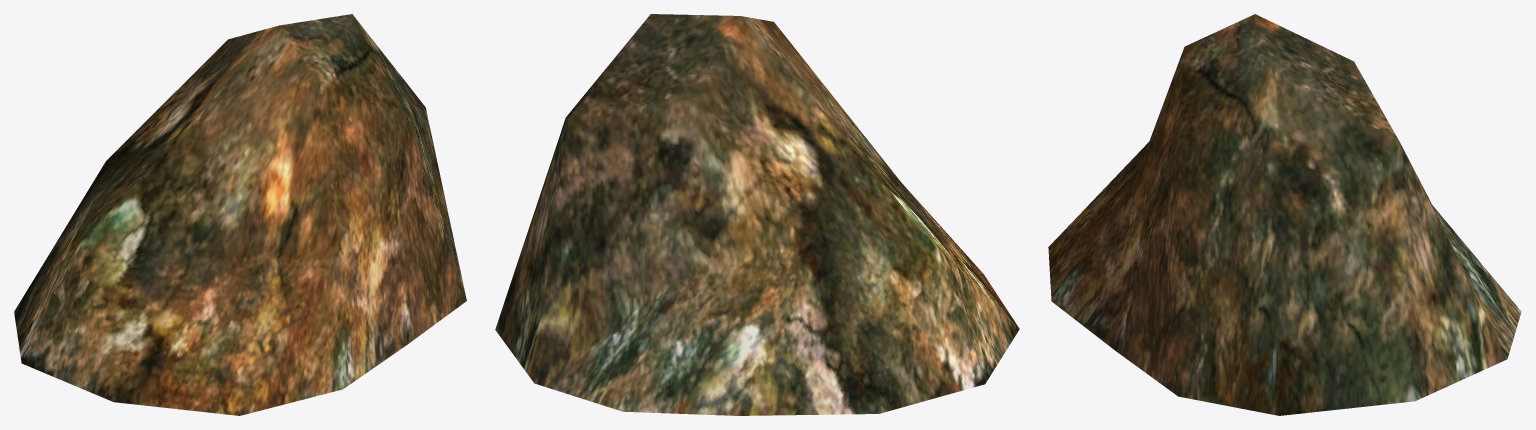
The model's file is c_stone07.glb.
The picture shows the model from 3 angles, left to right: view 1: azimuth 30°, elevation 25°; view 2: azimuth 150°, elevation 25°; view 3: azimuth 270°, elevation 25°; orthographic projection. The views are drawn at different scales.
Parts seen in each view (by area): view 1: c_stone07; view 2: c_stone07; view 3: c_stone07.
Boxes of the visible parts, <box> form: c_stone07: <box>14,14,466,415</box>; c_stone07: <box>495,14,1019,415</box>; c_stone07: <box>1048,14,1521,415</box>.
Size of the model in its own units: 0.7825 by 0.4911 by 0.6928.
Materials: 1 (1 with a texture image).
